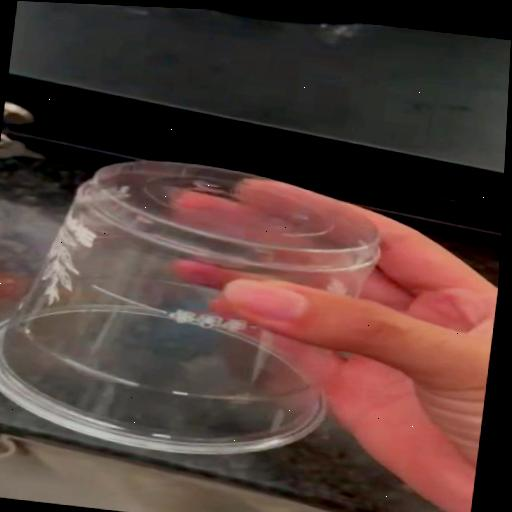ly_giay: (0, 161, 379, 454)
